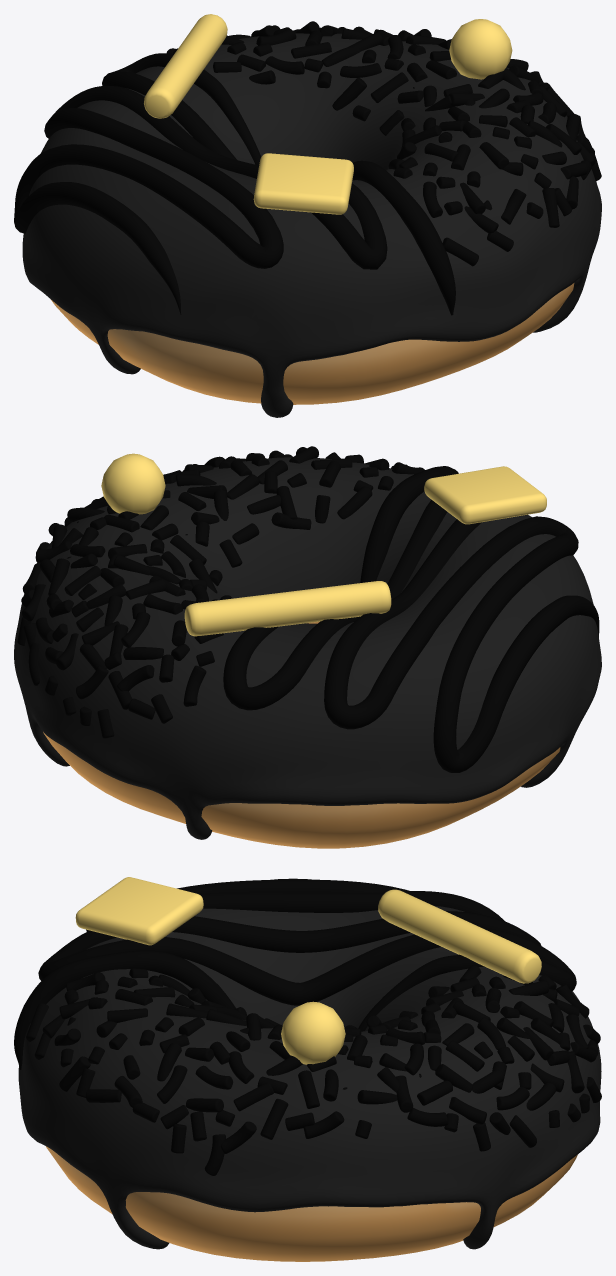
File: CharcoalDonut.glb
3 renders of one model, top to bottom at view 1: azimuth 30°, elevation 25°; view 2: azimuth 150°, elevation 25°; view 3: azimuth 270°, elevation 25°, orthographic. The views are drawn at different scales.
Parts seen in each view (by area): view 1: Charcoal Donut.001; view 2: Charcoal Donut.001; view 3: Charcoal Donut.001.
Boxes of the visible parts, <box> form: Charcoal Donut.001: <box>14,14,601,417</box>; Charcoal Donut.001: <box>14,446,601,848</box>; Charcoal Donut.001: <box>14,877,601,1261</box>.
Size of the model in its own units: 0.652 by 0.3203 by 0.6421.
Materials: 4 (1 with a texture image).
